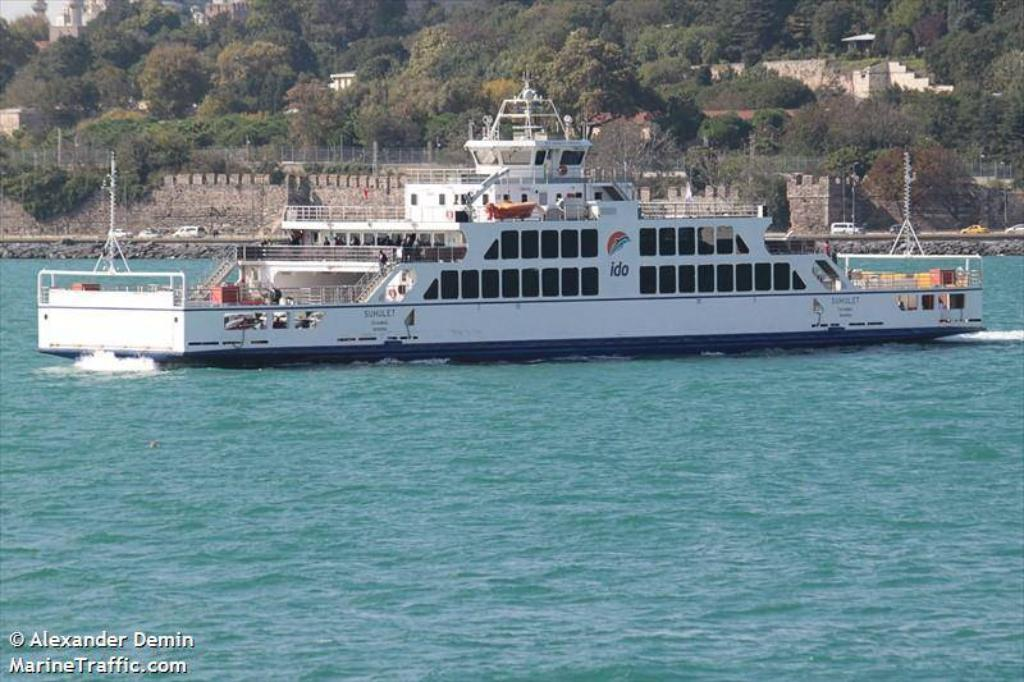PassengerShip: (28, 83, 988, 361)
